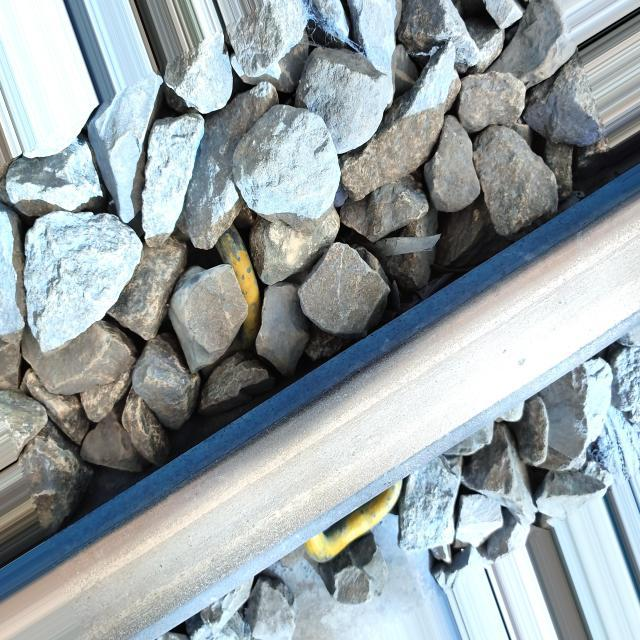Good Fasteners: (304, 480, 402, 562)
